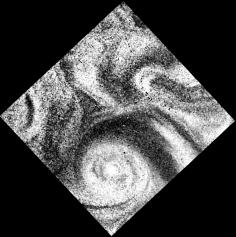CE: (73, 126, 153, 201)
